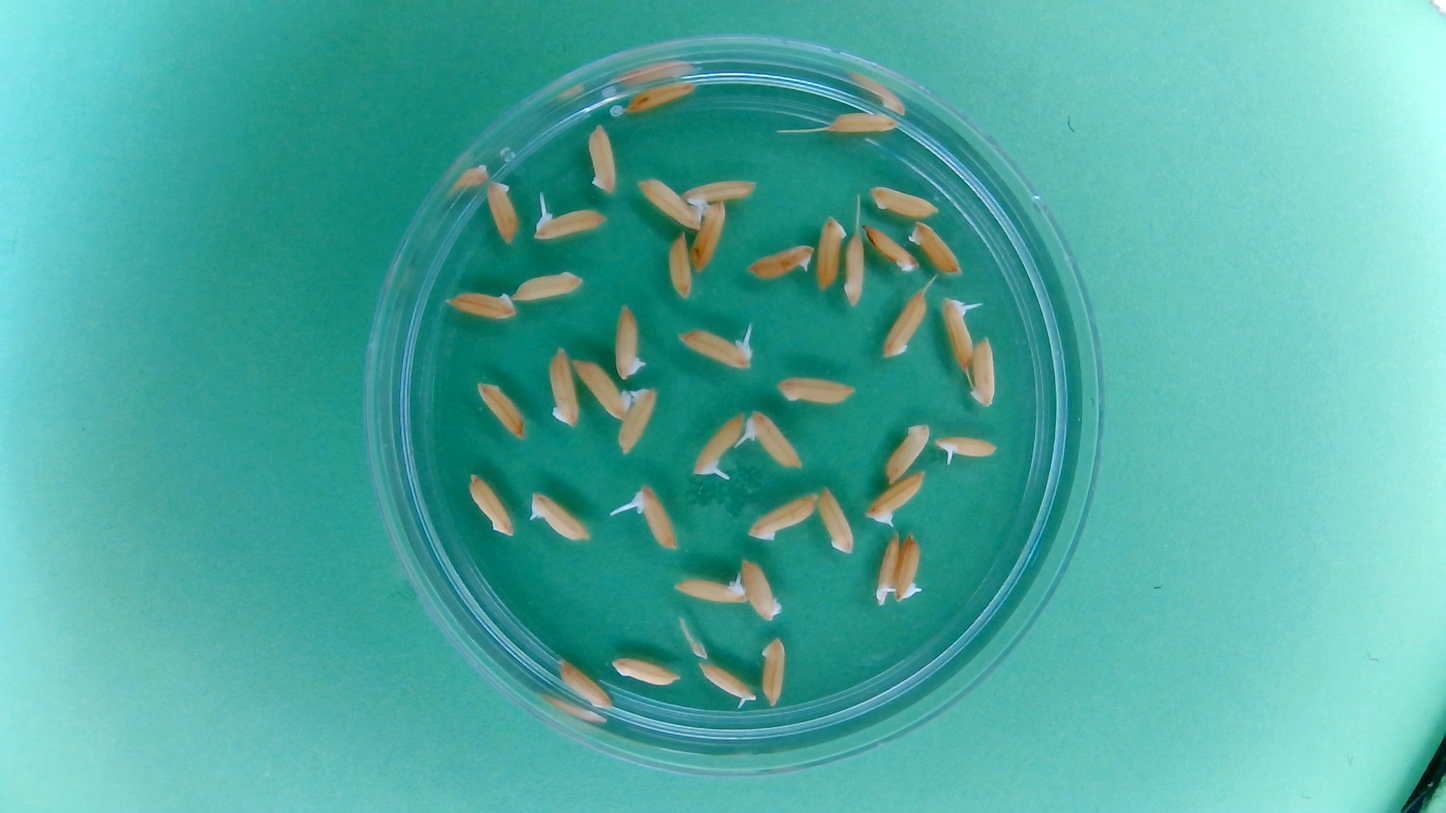no: (571, 355, 632, 422), (635, 175, 707, 230), (745, 490, 818, 543), (880, 285, 930, 361), (465, 468, 516, 538), (473, 378, 527, 441), (554, 656, 615, 711), (907, 219, 963, 277), (883, 419, 932, 485), (616, 384, 660, 457), (739, 556, 784, 624), (862, 222, 919, 275), (545, 344, 580, 430), (612, 301, 649, 381), (689, 200, 729, 274), (773, 373, 857, 408), (868, 181, 941, 220), (817, 484, 856, 557), (622, 78, 699, 114), (585, 120, 621, 196), (813, 212, 847, 292), (442, 288, 519, 323), (511, 267, 585, 303), (679, 177, 760, 209), (966, 333, 1000, 409), (484, 176, 520, 246), (610, 654, 682, 687), (824, 107, 901, 136), (758, 635, 788, 709), (840, 229, 868, 308), (665, 231, 695, 302)
yes: (692, 409, 746, 477), (744, 409, 804, 470), (527, 489, 591, 542), (678, 327, 755, 371), (633, 483, 679, 550), (743, 241, 816, 282), (697, 661, 757, 705), (532, 206, 606, 241), (941, 300, 975, 372), (673, 574, 747, 606), (871, 530, 901, 604), (894, 530, 923, 602), (934, 434, 999, 463)
